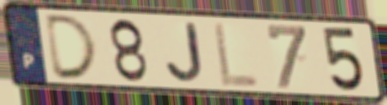5: (320, 26, 366, 94)
7: (264, 23, 308, 90)
8: (107, 17, 149, 83)
D: (43, 13, 102, 82)
J: (163, 21, 206, 85)
L: (211, 20, 261, 89)
